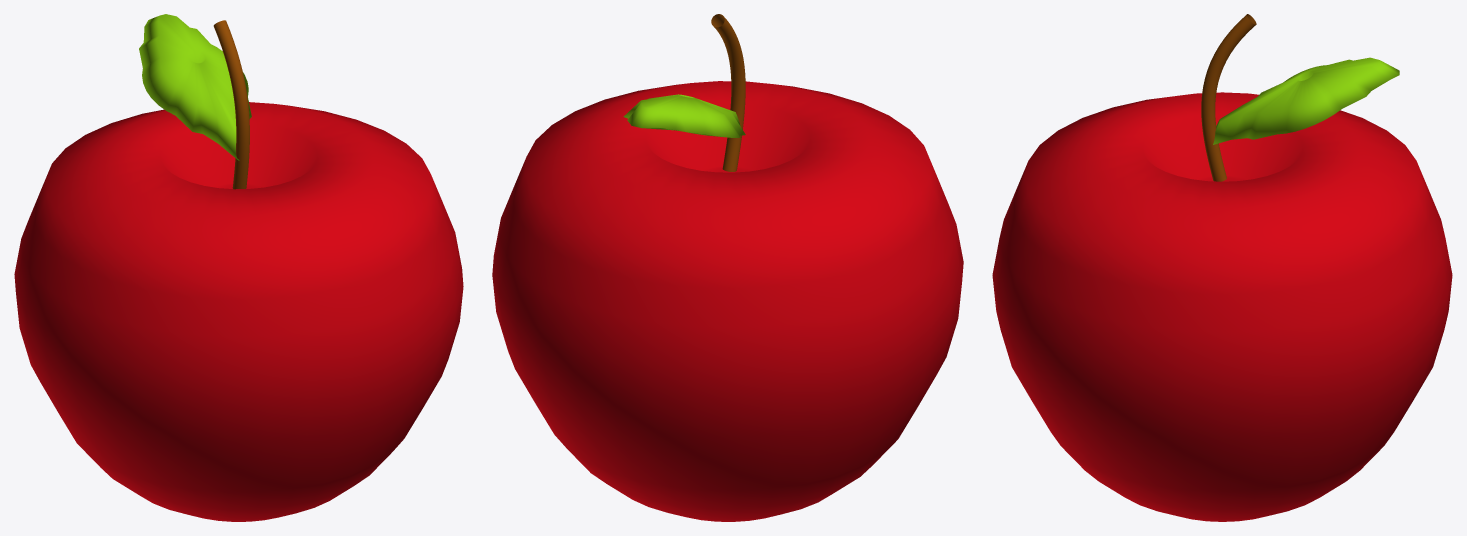
File: Apple.fbx
The picture shows the model from 3 angles, left to right: view 1: azimuth 30°, elevation 25°; view 2: azimuth 150°, elevation 25°; view 3: azimuth 270°, elevation 25°; orthographic projection. The views are drawn at different scales.
Parts seen in each view (by area): view 1: Sphere_001, NurbsPath; view 2: Sphere_001, NurbsPath; view 3: Sphere_001, NurbsPath.
Boxes of the visible parts, x1,y1,x2,y2 form: Sphere_001: (14, 14, 463, 521); NurbsPath: (213, 20, 249, 189); Sphere_001: (492, 81, 963, 521); NurbsPath: (711, 14, 745, 171); Sphere_001: (992, 57, 1452, 521); NurbsPath: (1201, 14, 1256, 181).
Size of the model in its own units: 2.18 by 2.54 by 2.18.
